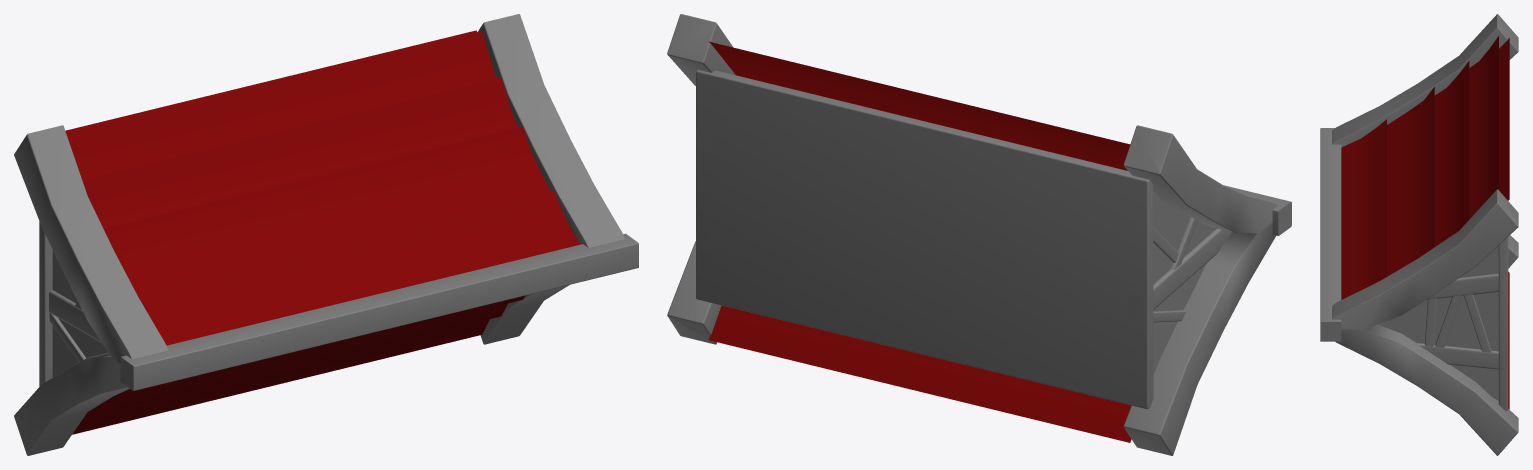
The model's file is SM_RectangleRoof 1.fbx.
3 renders of one model, left to right at view 1: azimuth 30°, elevation 25°; view 2: azimuth 150°, elevation 25°; view 3: azimuth 270°, elevation 25°, orthographic. The views are drawn at different scales.
Visible parts, largest first — view 1: SM_RectangleRoof; view 2: SM_RectangleRoof; view 3: SM_RectangleRoof.
Boxes of the visible parts, box(x1,y1,x2,y2) form: SM_RectangleRoof: box(14, 14, 638, 455); SM_RectangleRoof: box(667, 14, 1291, 455); SM_RectangleRoof: box(1320, 14, 1518, 455).
Bounding box in the file's own units: 958 × 584 × 414.
